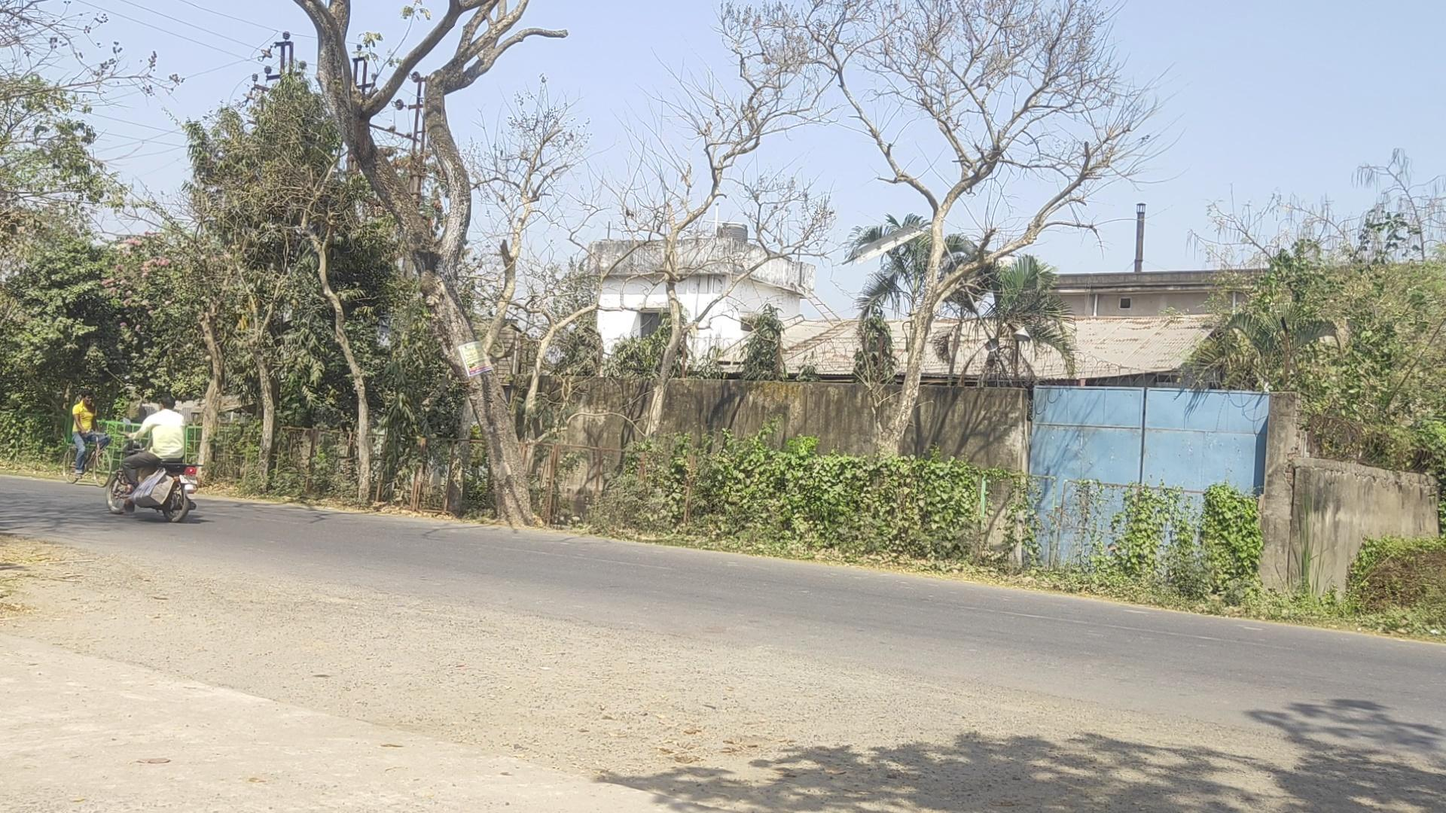bike: (106, 394, 203, 523), (63, 391, 112, 486)
